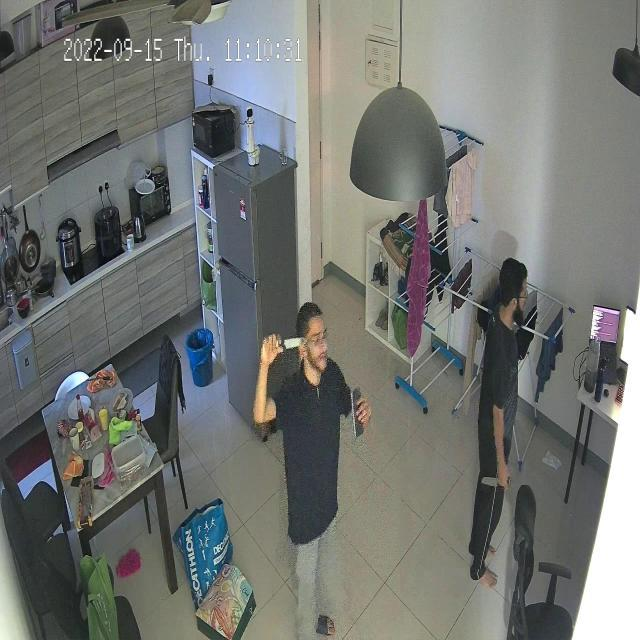Knife: (257, 329, 311, 357), (476, 467, 519, 495)
